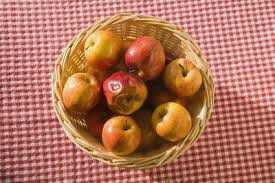damaged_apple: (149, 102, 197, 141), (78, 33, 122, 73), (124, 39, 166, 80), (163, 58, 208, 96), (98, 116, 142, 154), (103, 74, 147, 111), (62, 73, 101, 112)
